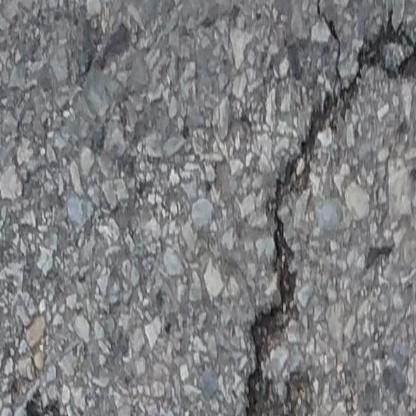Cracks: (222, 9, 416, 416), (18, 400, 83, 416)
